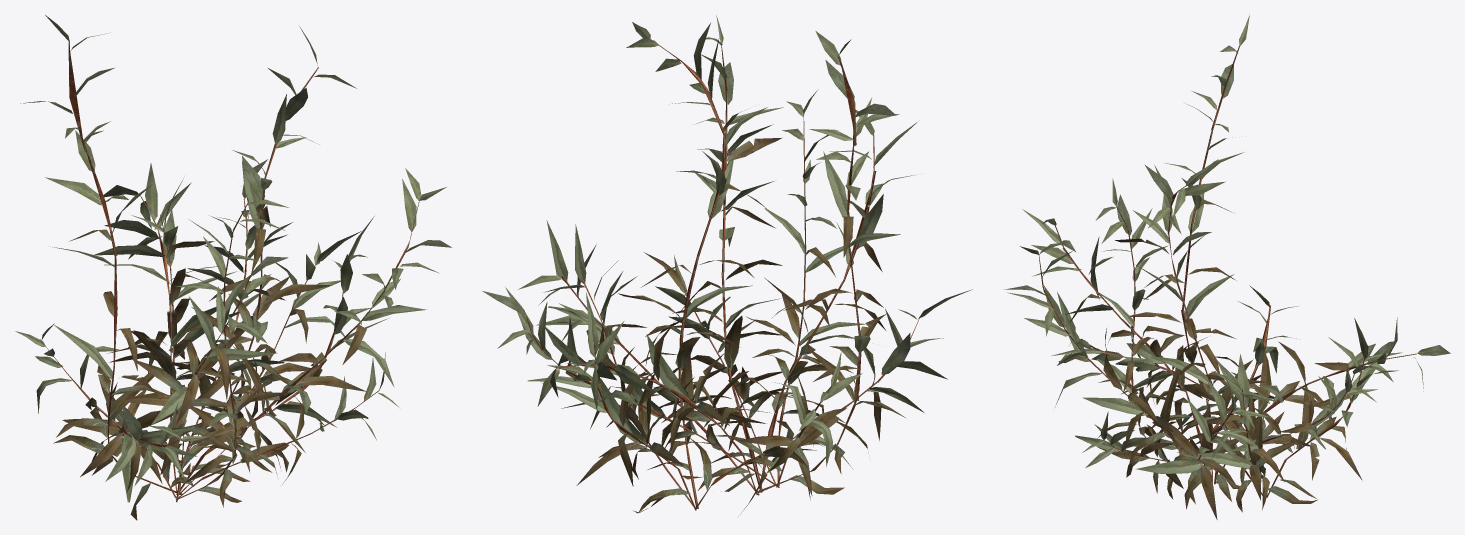
File: shrubs_lo.glb
The picture shows the model from 3 angles, left to right: view 1: azimuth 30°, elevation 25°; view 2: azimuth 150°, elevation 25°; view 3: azimuth 270°, elevation 25°; orthographic projection. The views are drawn at different scales.
Visible parts, largest first — view 1: shrub_a_lo, shrub_b_lo, shrub_d_lo; view 2: shrub_a_lo, shrub_b_lo, shrub_d_lo; view 3: shrub_a_lo, shrub_b_lo, shrub_d_lo.
Boxes of the visible parts, box(x1,y1,x2,y2) form: shrub_a_lo: box(20, 15, 451, 520); shrub_b_lo: box(62, 26, 361, 502); shrub_d_lo: box(15, 159, 399, 507); shrub_a_lo: box(518, 15, 919, 495); shrub_b_lo: box(541, 22, 972, 516); shrub_d_lo: box(482, 89, 865, 495); shrub_a_lo: box(1003, 14, 1450, 519); shrub_b_lo: box(1051, 159, 1402, 512); shrub_d_lo: box(1075, 178, 1378, 499).
Bounding box in the file's own units: 1.3 × 1.69 × 1.62.
Materials: 1 (1 with a texture image).
